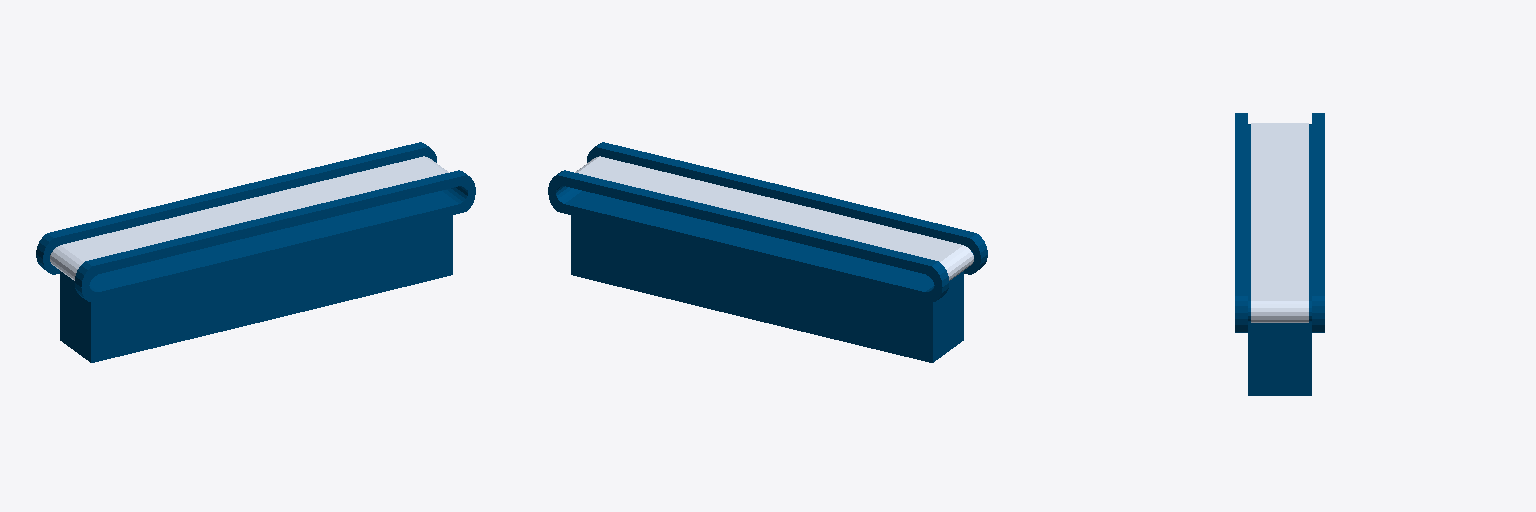
The model's file is cakeconveyor.obj.
3 views of the same model, side by side, from view 1: azimuth 30°, elevation 25°; view 2: azimuth 150°, elevation 25°; view 3: azimuth 270°, elevation 25° (orthographic).
Parts seen in each view (by area): view 1: polySurface37 polySurface42, polySurface37 polySurface39; view 2: polySurface37 polySurface42, polySurface37 polySurface39; view 3: polySurface37 polySurface39, polySurface37 polySurface42.
Boxes of the visible parts, x1=… form: polySurface37 polySurface42: x1=36, y1=142, x2=475, y2=362; polySurface37 polySurface39: x1=50, y1=156, x2=448, y2=280; polySurface37 polySurface42: x1=548, y1=142, x2=987, y2=362; polySurface37 polySurface39: x1=575, y1=156, x2=973, y2=280; polySurface37 polySurface39: x1=1251, y1=123, x2=1308, y2=322; polySurface37 polySurface42: x1=1235, y1=113, x2=1324, y2=395.
Bounding box in the file's own units: 17.16 × 4.32 × 3.42.